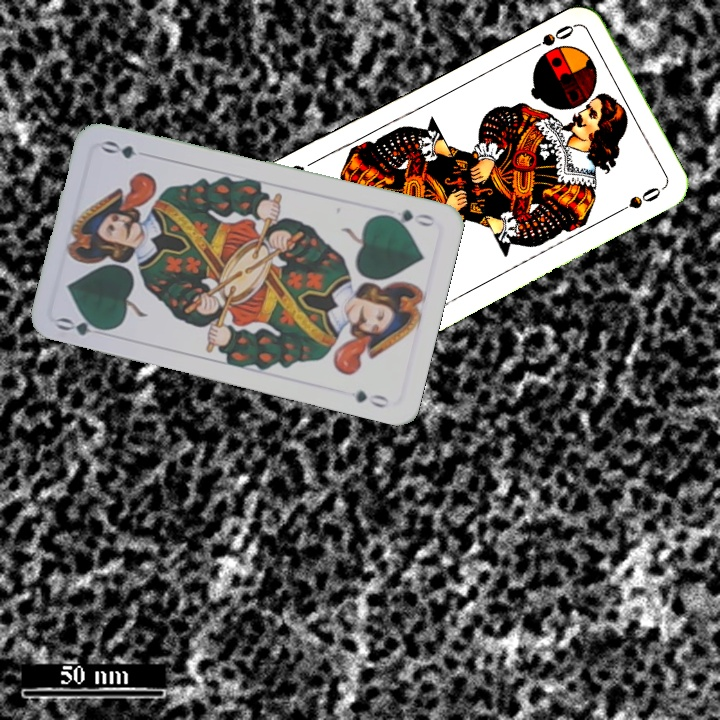GO: (53, 312, 113, 339), (379, 205, 438, 230)
SO: (523, 20, 578, 54)
